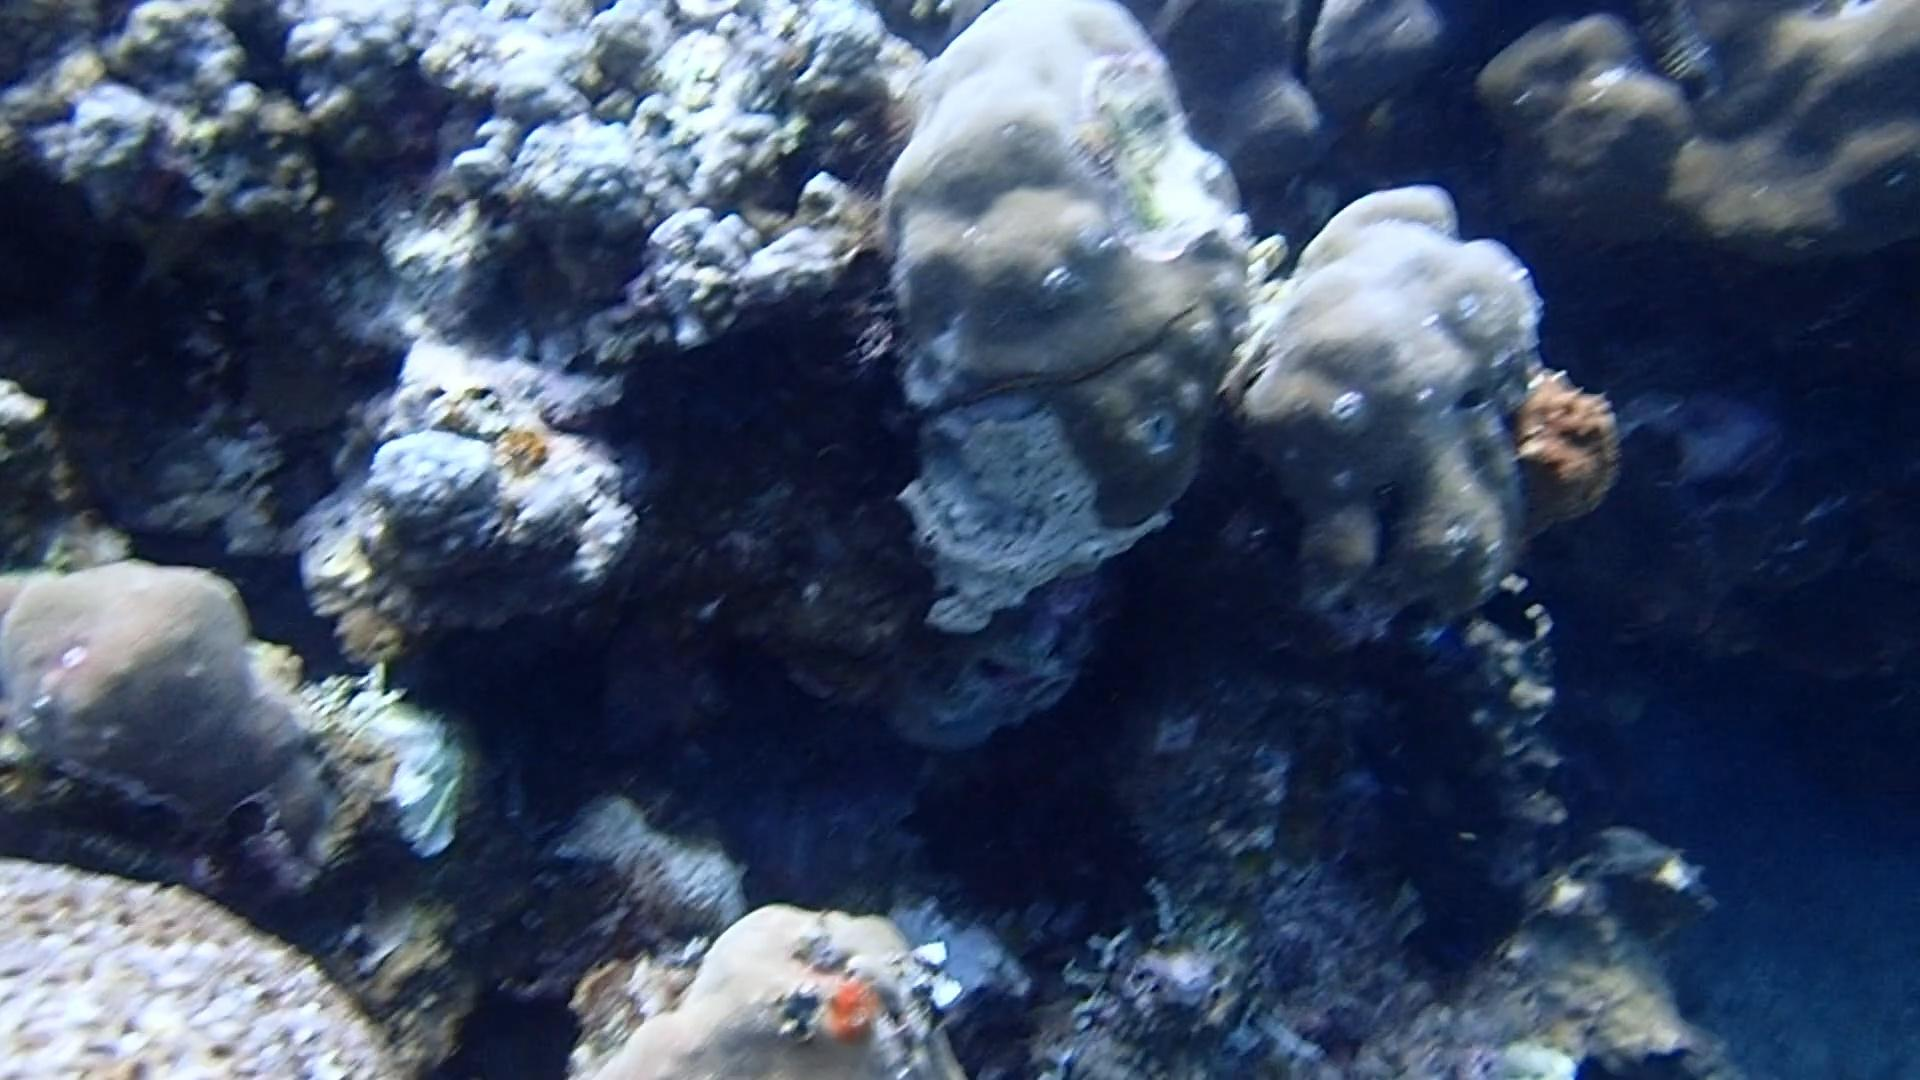Dark Fish: (1480, 583, 1551, 655)
